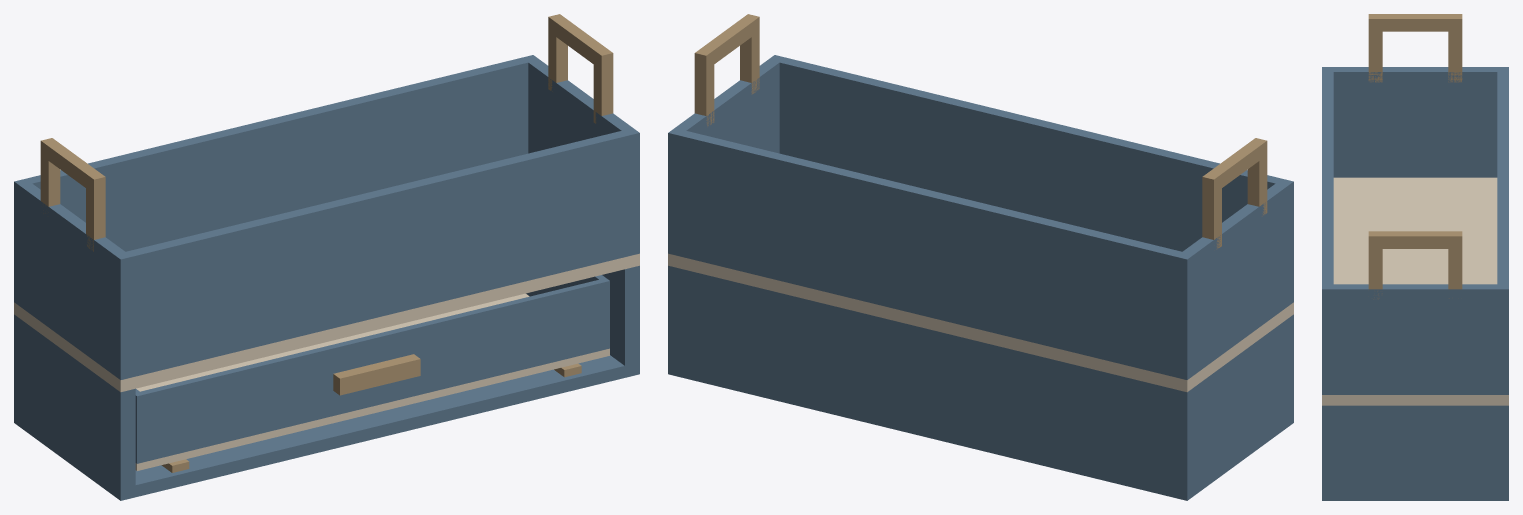
The model's file is case-model.glb.
3 views of the same model, side by side, from view 1: azimuth 30°, elevation 25°; view 2: azimuth 150°, elevation 25°; view 3: azimuth 270°, elevation 25° (orthographic). The views are drawn at different scales.
Visible parts, largest first — view 1: storage-upper-front, storage-upper-back, storage-drawer-front, storage-upper-left, storage-base, storage-side-left, storage-roof, storage-upper-right, storage-drawer-bottom, storage-side-right, storage-drawer-handle, storage-case-handle-right-front (+6 smaller); view 2: storage-upper-back, storage-back, storage-upper-front, storage-upper-left, storage-side-left, storage-base, storage-roof, storage-upper-right, storage-side-right, storage-case-handle-right-rear, storage-case-handle-left-rear, storage-case-handle-right-front (+3 smaller); view 3: storage-upper-right, storage-upper-left, storage-roof, storage-side-right, storage-upper-back, storage-upper-front, storage-base, storage-case-handle-left-grip, storage-case-handle-right-grip, storage-case-handle-left-rear, storage-case-handle-left-front, storage-case-handle-right-front (+1 smaller).
Part boxes in pixels (x1=…): storage-upper-front: x1=126, y1=131, x2=628, y2=377; storage-upper-back: x1=26, y1=57, x2=528, y2=251; storage-drawer-front: x1=140, y1=280, x2=603, y2=461; storage-upper-left: x1=14, y1=178, x2=132, y2=379; storage-base: x1=14, y1=355, x2=639, y2=500; storage-side-left: x1=14, y1=314, x2=135, y2=488; storage-roof: x1=14, y1=253, x2=639, y2=392; storage-upper-right: x1=522, y1=55, x2=639, y2=256; storage-drawer-bottom: x1=135, y1=293, x2=609, y2=470; storage-side-right: x1=602, y1=265, x2=639, y2=365; storage-drawer-handle: x1=333, y1=354, x2=420, y2=395; storage-case-handle-right-front: x1=593, y1=47, x2=613, y2=123; storage-upper-back: x1=679, y1=131, x2=1181, y2=377; storage-back: x1=683, y1=269, x2=1172, y2=484; storage-upper-front: x1=779, y1=57, x2=1281, y2=251; storage-upper-left: x1=1175, y1=178, x2=1293, y2=379; storage-side-left: x1=1172, y1=314, x2=1293, y2=488; storage-base: x1=668, y1=362, x2=1293, y2=500; storage-roof: x1=668, y1=253, x2=1293, y2=392; storage-upper-right: x1=668, y1=55, x2=785, y2=256; storage-side-right: x1=668, y1=265, x2=682, y2=365; storage-case-handle-right-rear: x1=694, y1=47, x2=714, y2=126; storage-case-handle-left-rear: x1=1202, y1=171, x2=1221, y2=249; storage-case-handle-right-front: x1=740, y1=14, x2=759, y2=94; storage-upper-right: x1=1322, y1=284, x2=1508, y2=394; storage-upper-left: x1=1322, y1=67, x2=1508, y2=177; storage-roof: x1=1322, y1=177, x2=1508, y2=405; storage-side-right: x1=1322, y1=405, x2=1508, y2=490; storage-upper-back: x1=1497, y1=72, x2=1508, y2=284; storage-upper-front: x1=1322, y1=72, x2=1333, y2=284; storage-base: x1=1322, y1=490, x2=1508, y2=500; storage-case-handle-left-grip: x1=1382, y1=14, x2=1448, y2=31; storage-case-handle-right-grip: x1=1382, y1=231, x2=1448, y2=248; storage-case-handle-left-rear: x1=1448, y1=14, x2=1462, y2=82; storage-case-handle-left-front: x1=1368, y1=14, x2=1382, y2=82; storage-case-handle-right-front: x1=1368, y1=231, x2=1382, y2=299.
Size of the model in its own units: 0.45 by 0.25 by 0.16.
